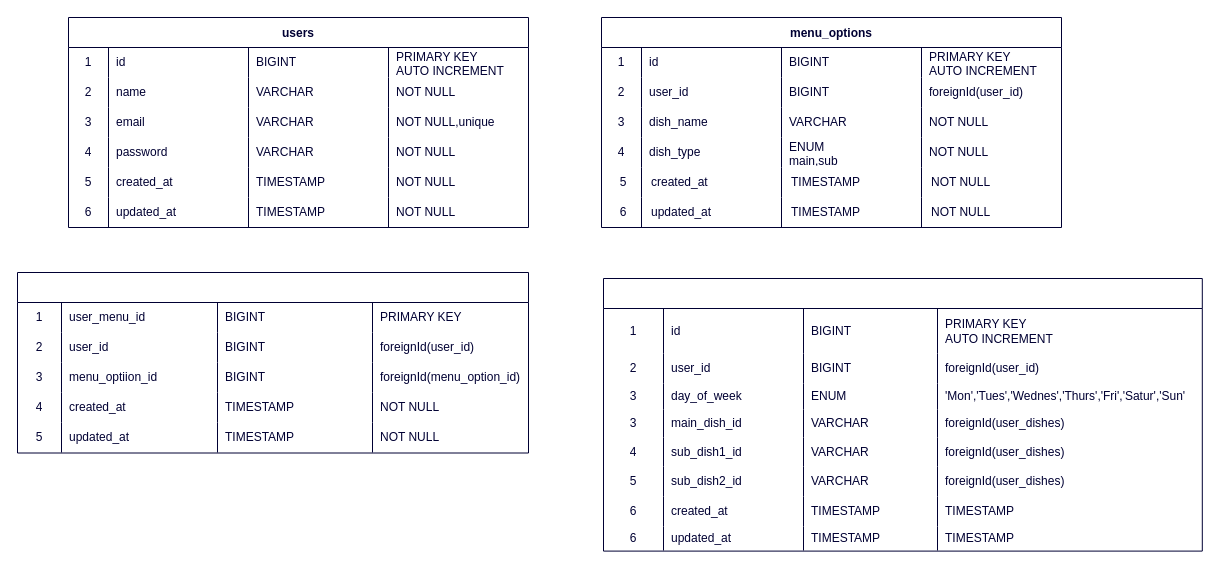
Some shapes in this 1220 by 569 pixel diagram are drawn without their labels. Each missing label, with the box of its shape:
userdishes: (16, 272, 528, 453)
usermenus: (602, 278, 1202, 551)
